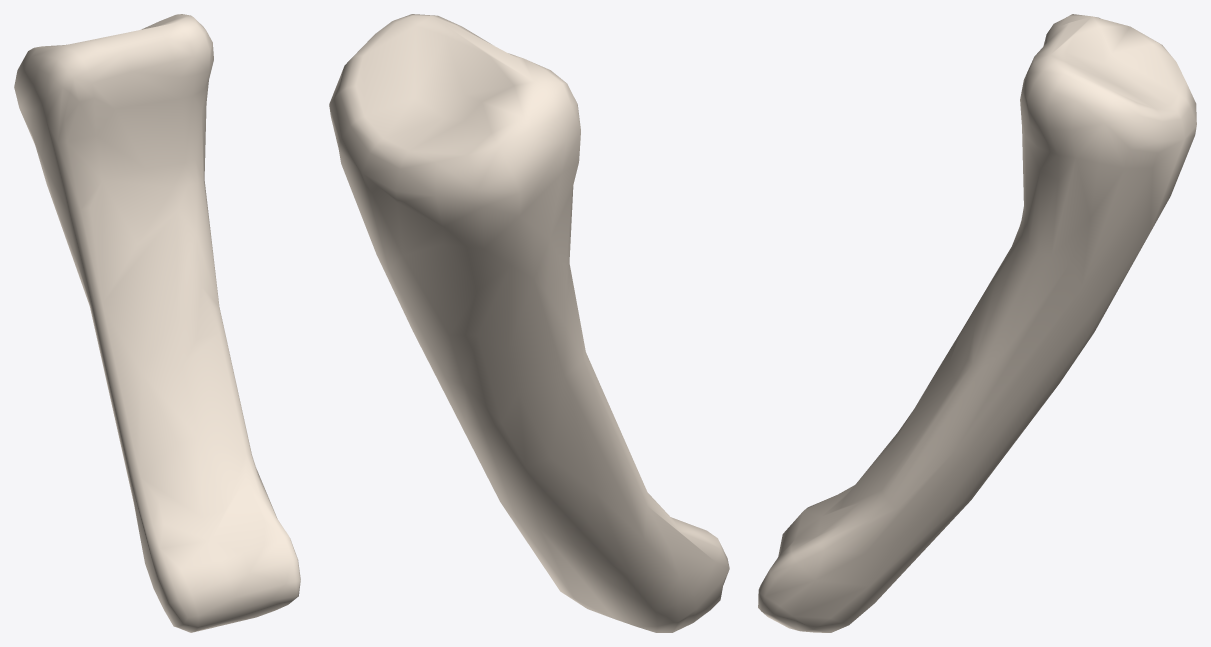
The model's file is right_digit_4_proximal.glb.
3 renders of one model, left to right at view 1: azimuth 30°, elevation 25°; view 2: azimuth 150°, elevation 25°; view 3: azimuth 270°, elevation 25°, orthographic. The views are drawn at different scales.
Parts seen in each view (by area): view 1: Proximal phalanx of 4th finger.r; view 2: Proximal phalanx of 4th finger.r; view 3: Proximal phalanx of 4th finger.r.
Boxes of the visible parts, x1,y1,x2,y2 form: Proximal phalanx of 4th finger.r: (14, 14, 300, 632); Proximal phalanx of 4th finger.r: (329, 14, 729, 632); Proximal phalanx of 4th finger.r: (758, 14, 1196, 632).
Bounding box in the file's own units: 0.0137 × 0.0402 × 0.0268.
